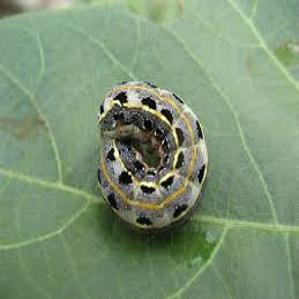Tobacco cutworm: (64, 69, 230, 258)
